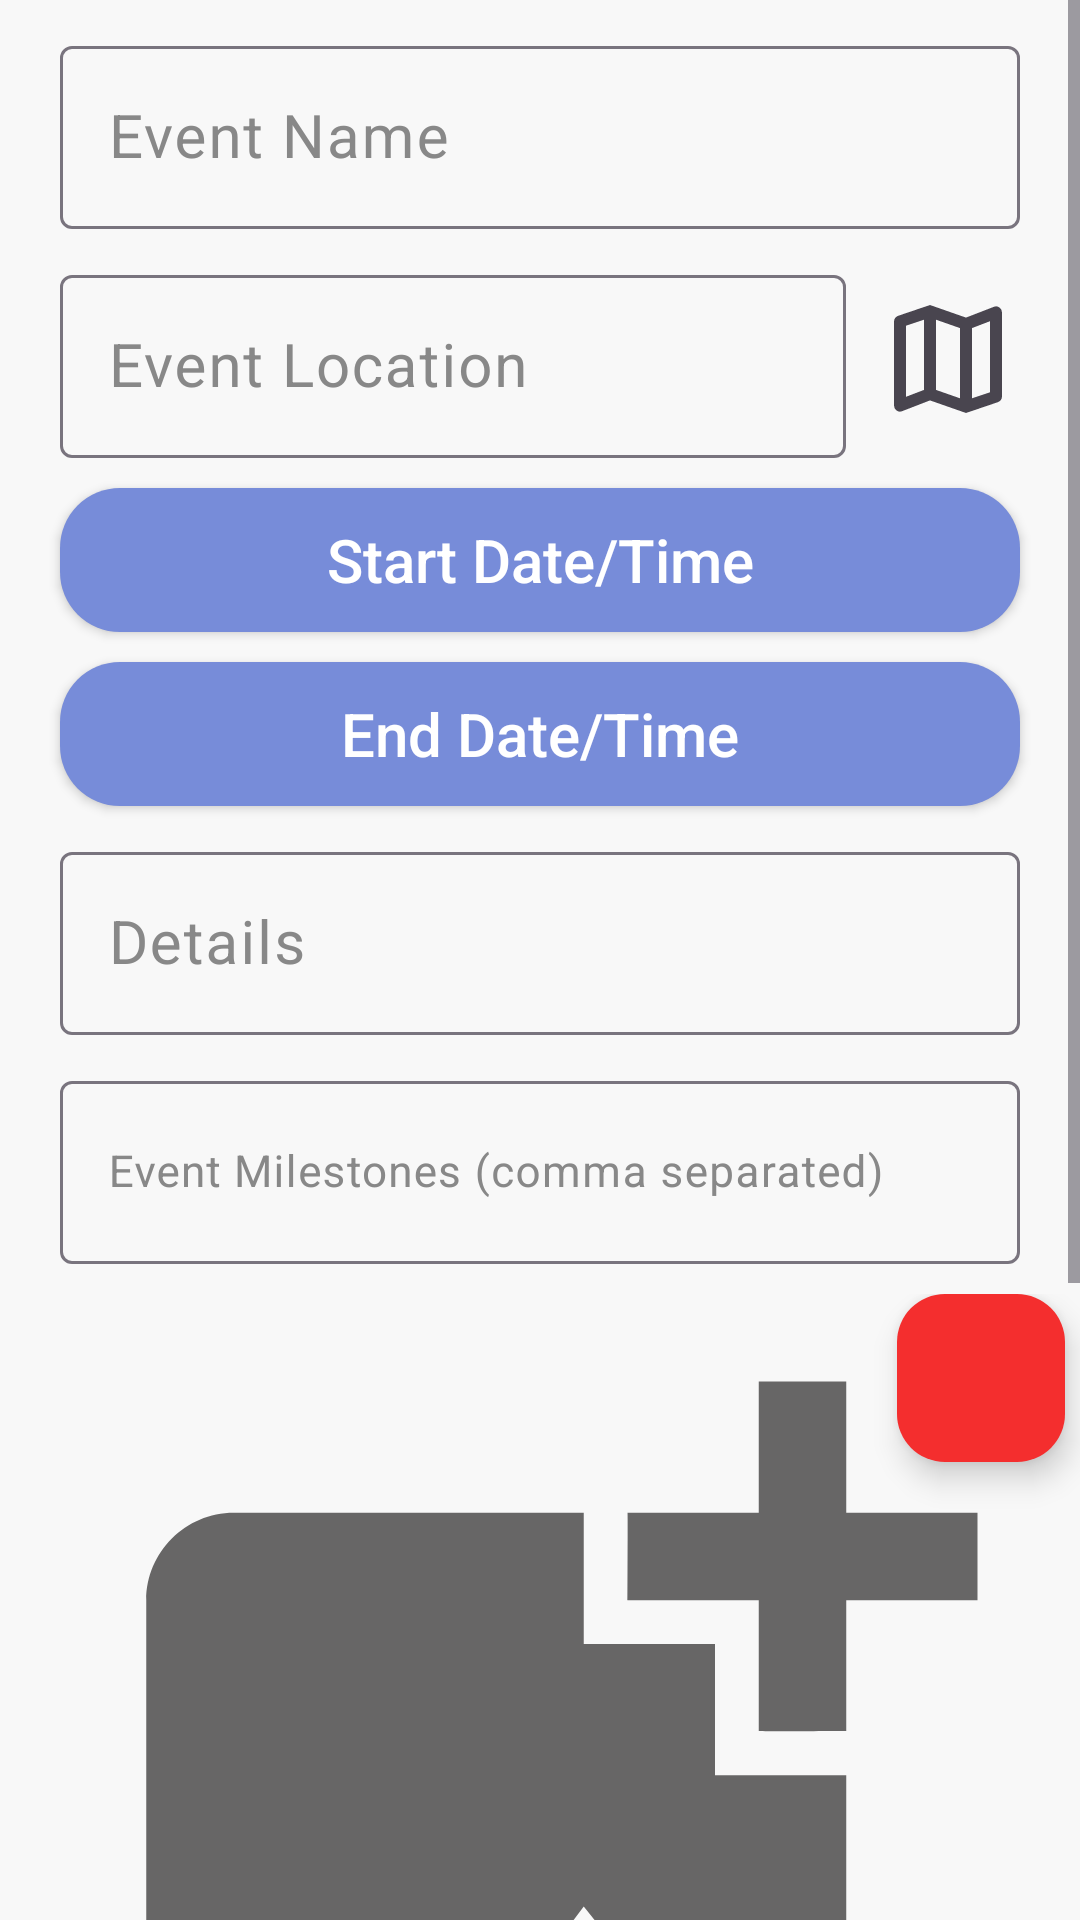

Screen size 1080w x 1920h. Icon name, then its box in pixels as (x1, y1, x2, y2):
map: (894, 305, 1002, 413)
